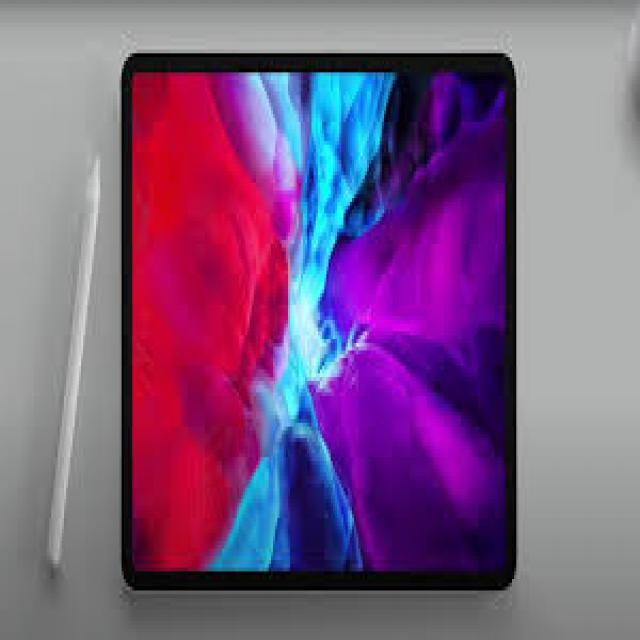device: (119, 42, 525, 602)
